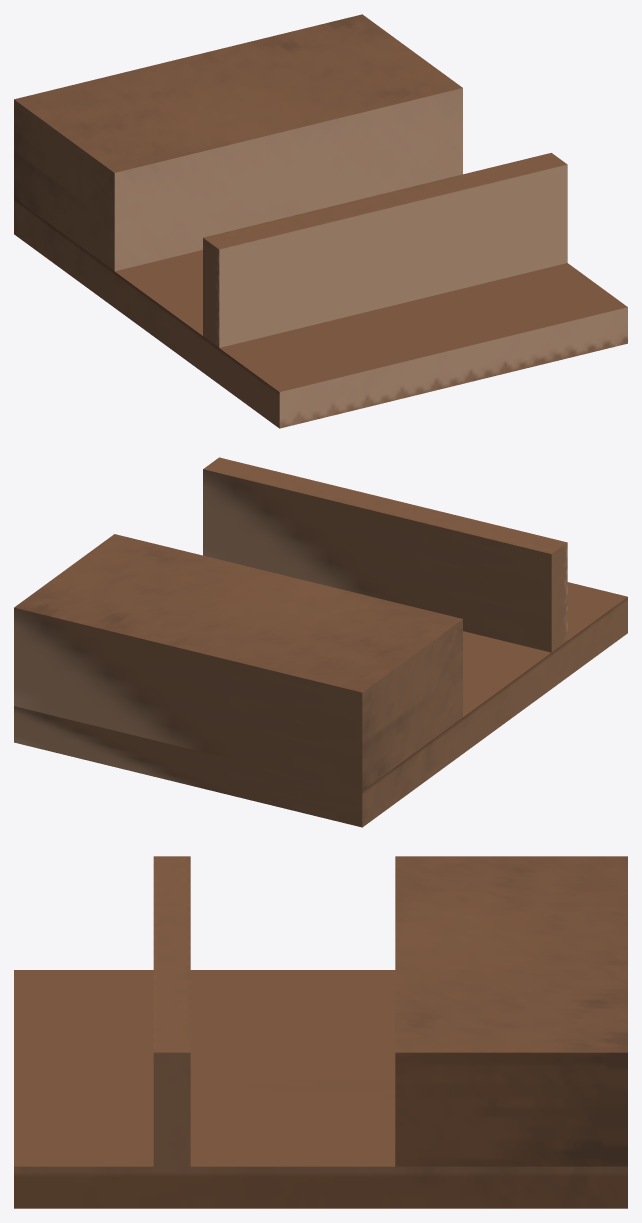
Rendered from pz_g016_shop_fancy_wooden_shop_shelves.obj.
3 views of the same model, one above another, from view 1: azimuth 30°, elevation 25°; view 2: azimuth 150°, elevation 25°; view 3: azimuth 270°, elevation 25° (orthographic). The views are drawn at different scales.
Parts seen in each view (by area): view 1: physical_component_2_z+, physical_component_1_y+, physical_component_1_z+, physical_component_0_y+, physical_component_0_z+, physical_component_1_x-, physical_component_0_x-, physical_component_2_y+, physical_component_2_x-; view 2: physical_component_1_z-, physical_component_1_y+, physical_component_2_z-, physical_component_0_z-, physical_component_1_x-, physical_component_0_x-, physical_component_0_y+, physical_component_2_y+, physical_component_2_x-; view 3: physical_component_0_y+, physical_component_1_y+, physical_component_1_x+, physical_component_0_x+, physical_component_2_y+, physical_component_2_x+.
Boxes of the visible parts, x1,y1,x2,y2 form: physical_component_2_z+: [219, 164, 567, 347]; physical_component_1_y+: [14, 14, 462, 172]; physical_component_1_z+: [114, 88, 462, 271]; physical_component_0_y+: [115, 250, 627, 391]; physical_component_0_z+: [279, 307, 627, 428]; physical_component_1_x-: [14, 99, 114, 270]; physical_component_0_x-: [14, 198, 279, 428]; physical_component_2_y+: [203, 153, 567, 249]; physical_component_2_x-: [203, 238, 219, 347]; physical_component_1_z-: [14, 607, 362, 790]; physical_component_1_y+: [14, 534, 462, 692]; physical_component_2_z-: [203, 469, 551, 652]; physical_component_0_z-: [14, 706, 362, 827]; physical_component_1_x-: [362, 619, 462, 790]; physical_component_0_x-: [362, 597, 627, 827]; physical_component_0_y+: [463, 582, 627, 716]; physical_component_2_y+: [203, 457, 567, 553]; physical_component_2_x-: [551, 542, 567, 651]; physical_component_0_y+: [14, 970, 395, 1166]; physical_component_1_y+: [395, 856, 627, 1052]; physical_component_1_x+: [395, 1052, 627, 1166]; physical_component_0_x+: [14, 1166, 627, 1208]; physical_component_2_y+: [153, 856, 190, 1052]; physical_component_2_x+: [153, 1052, 190, 1166].
Size of the model in its own units: 1 by 0.37 by 1.32.
1 material, 1 textured.
